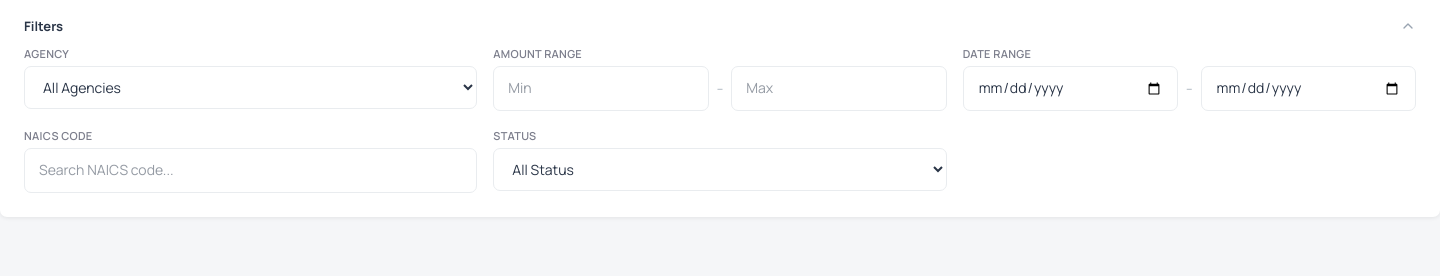
FilterPanel › shows active filter count badge when filters are set
Select "Department of Defense" in the dropdown below "Agency" at (251, 88), box [24, 66, 477, 109]
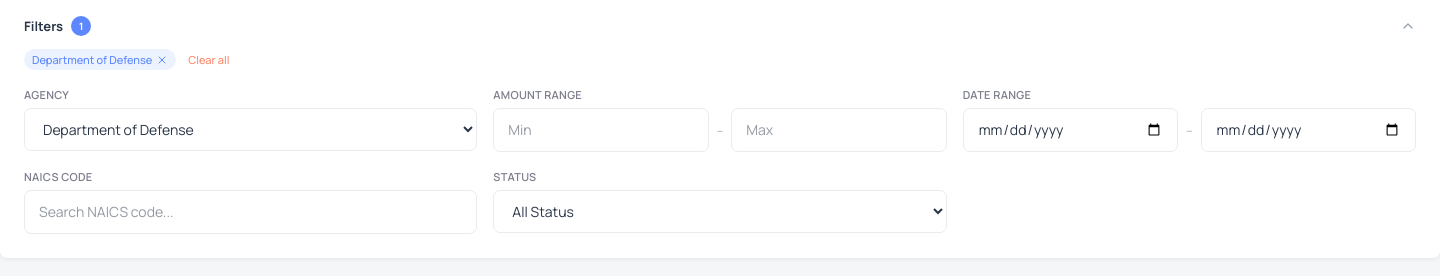
expect the text "1" is shown: met, box [71, 16, 91, 36]
